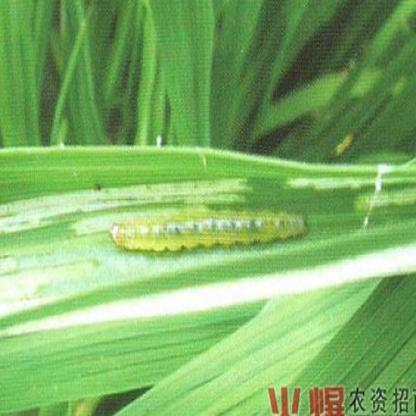leaf-folder: (107, 183, 305, 277)
